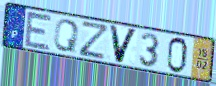0: (166, 36, 190, 74)
3: (138, 32, 162, 69)
E: (23, 9, 54, 52)
Q: (52, 19, 81, 55)
V: (107, 23, 140, 65)
Z: (78, 19, 111, 61)
